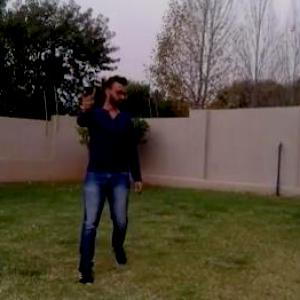takeoff-hand: (70, 77, 103, 119)
